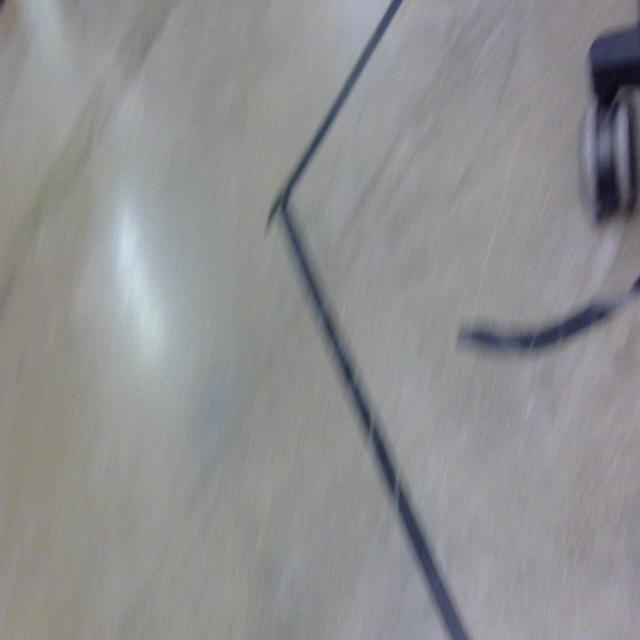tape: (256, 0, 487, 640), (443, 247, 640, 385)
